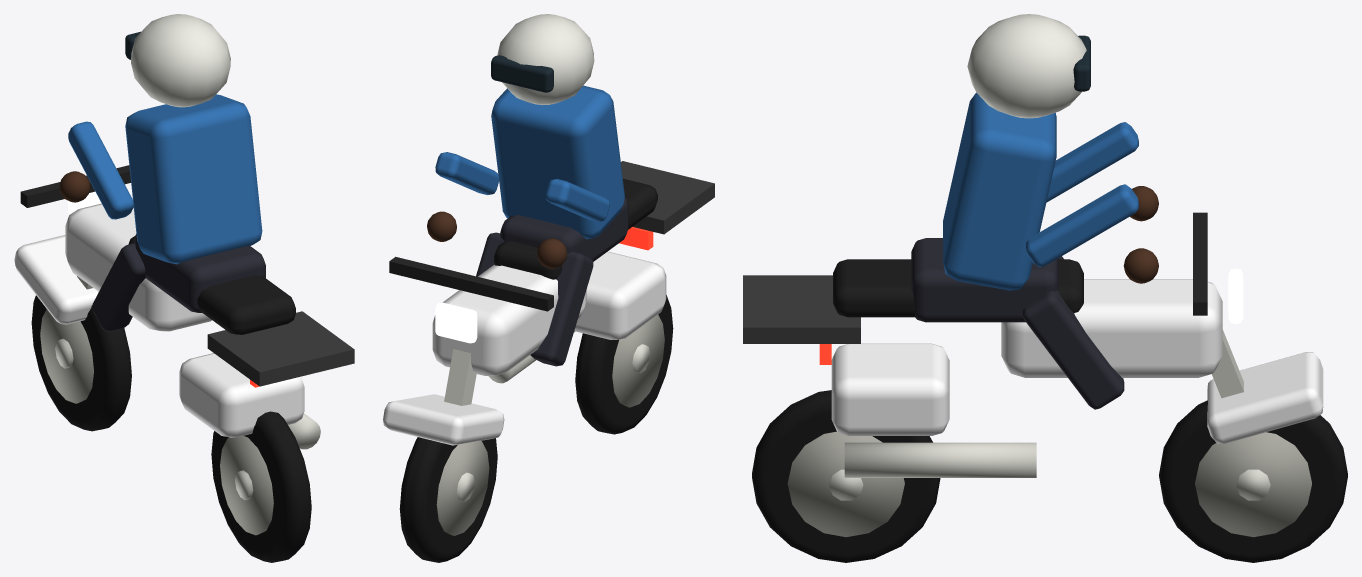
File: okada.glb
3 views of the same model, side by side, from view 1: azimuth 30°, elevation 25°; view 2: azimuth 150°, elevation 25°; view 3: azimuth 270°, elevation 25° (orthographic). The views are drawn at different scales.
Parts seen in each view (by area): view 1: okada; view 2: okada; view 3: okada.
Part boxes in pixels (<box>): okada: <box>14,14,354,562</box>; okada: <box>383,14,714,562</box>; okada: <box>743,14,1347,562</box>.
Bounding box in the file's own units: 0.72 × 2.02 × 2.05.
